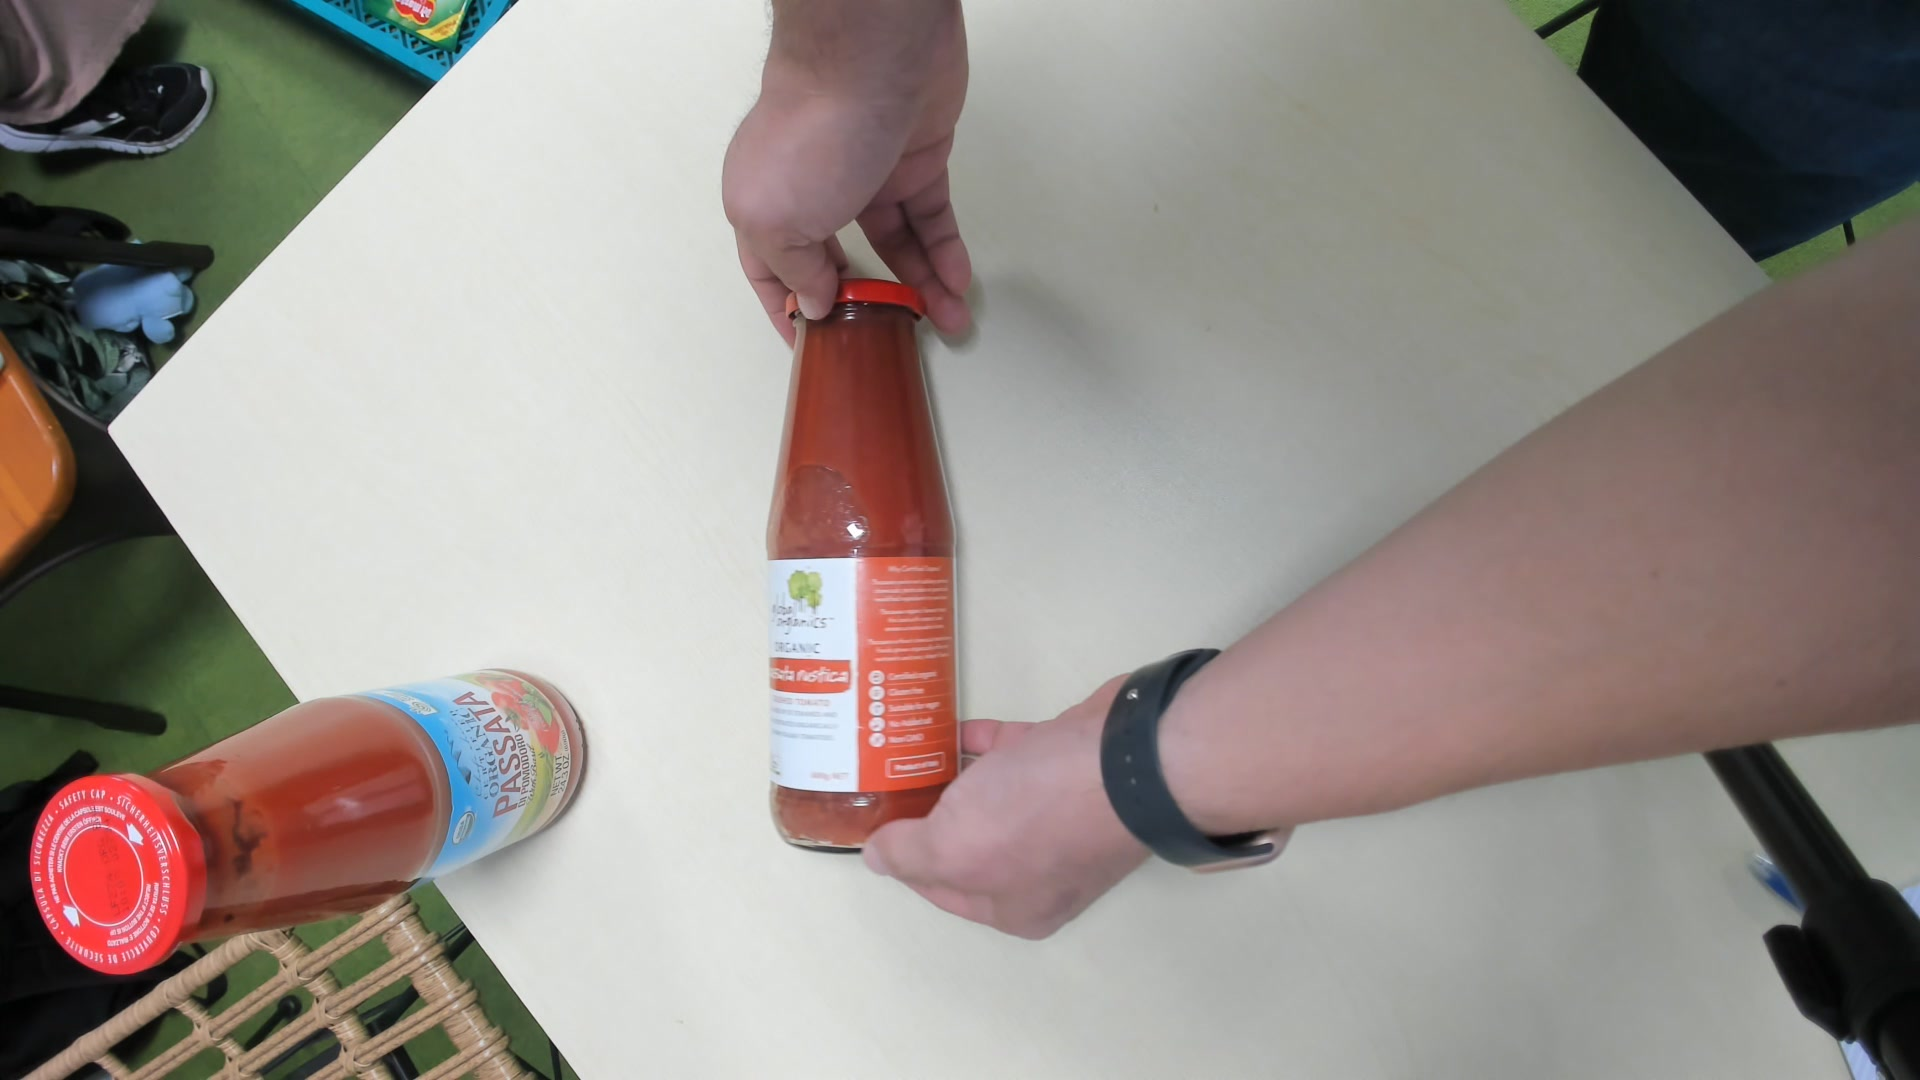PastaSauce_600-699g_NonHalal_NonHealthy: (766, 276, 959, 851)
